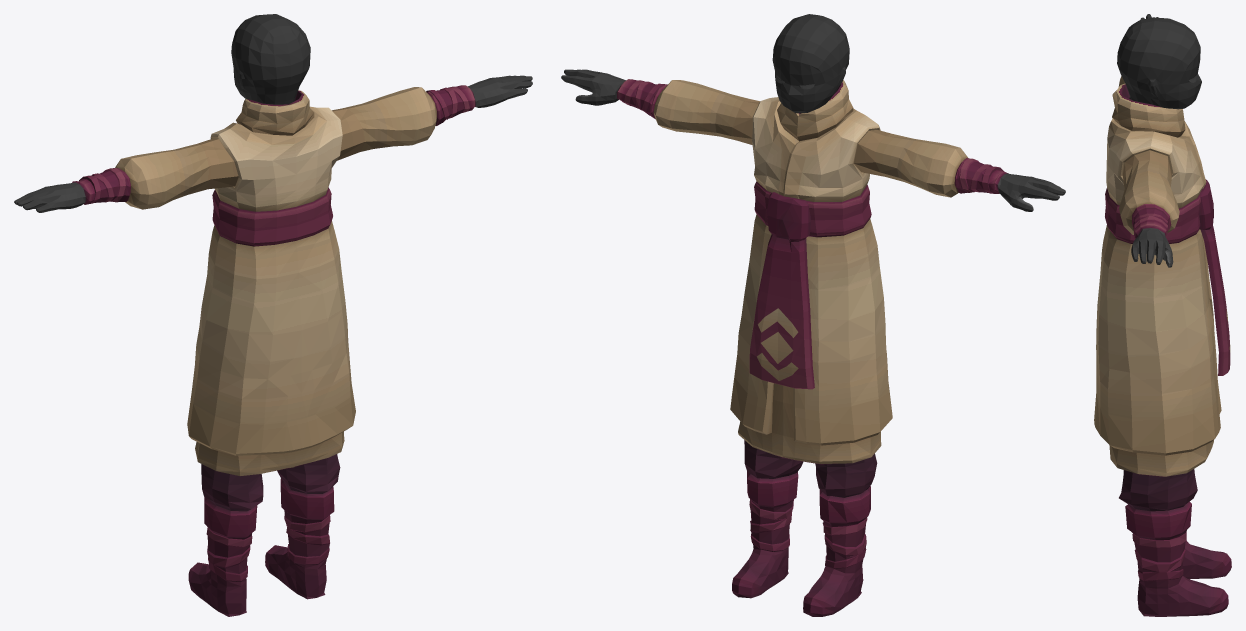
Rendered from CharSkyNPC_Body_AP18LightRobe.glb.
3 renders of one model, left to right at view 1: azimuth 30°, elevation 25°; view 2: azimuth 150°, elevation 25°; view 3: azimuth 270°, elevation 25°, orthographic. The views are drawn at different scales.
Visible parts, largest first — view 1: CharSkyNPC_Body_AP18LightRobe; view 2: CharSkyNPC_Body_AP18LightRobe; view 3: CharSkyNPC_Body_AP18LightRobe.
Boxes of the visible parts, bbox=[...] form: CharSkyNPC_Body_AP18LightRobe: bbox=[14, 14, 532, 616]; CharSkyNPC_Body_AP18LightRobe: bbox=[561, 14, 1065, 616]; CharSkyNPC_Body_AP18LightRobe: bbox=[1094, 14, 1231, 616].
Bounding box in the file's own units: 12.96 × 14.04 × 3.06.
1 material, 1 textured.
